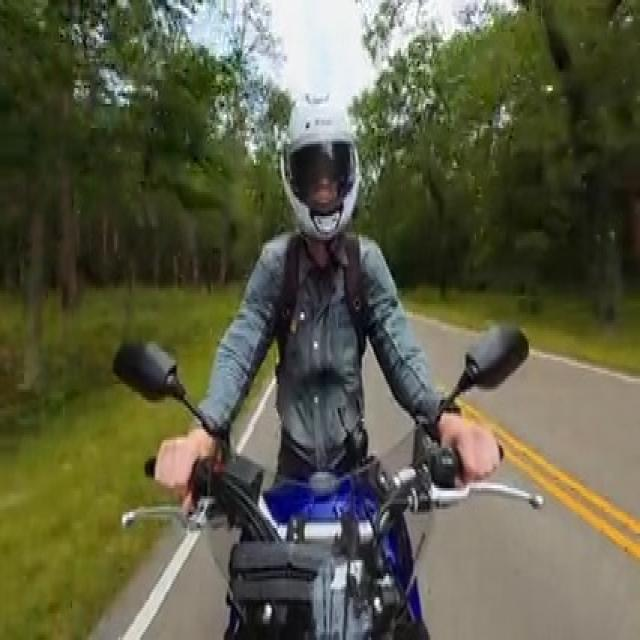Helmet_Wearer: (270, 83, 365, 242)
Person: (155, 86, 500, 514)
